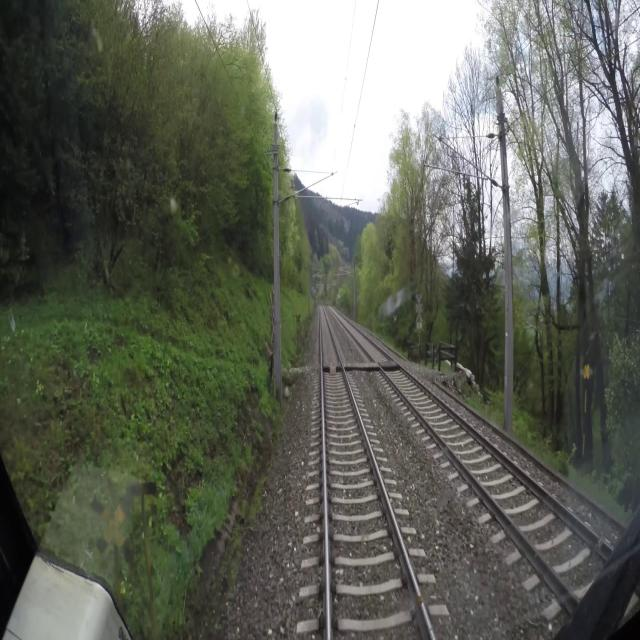rail-track: (336, 313, 605, 556), (321, 306, 431, 639)
